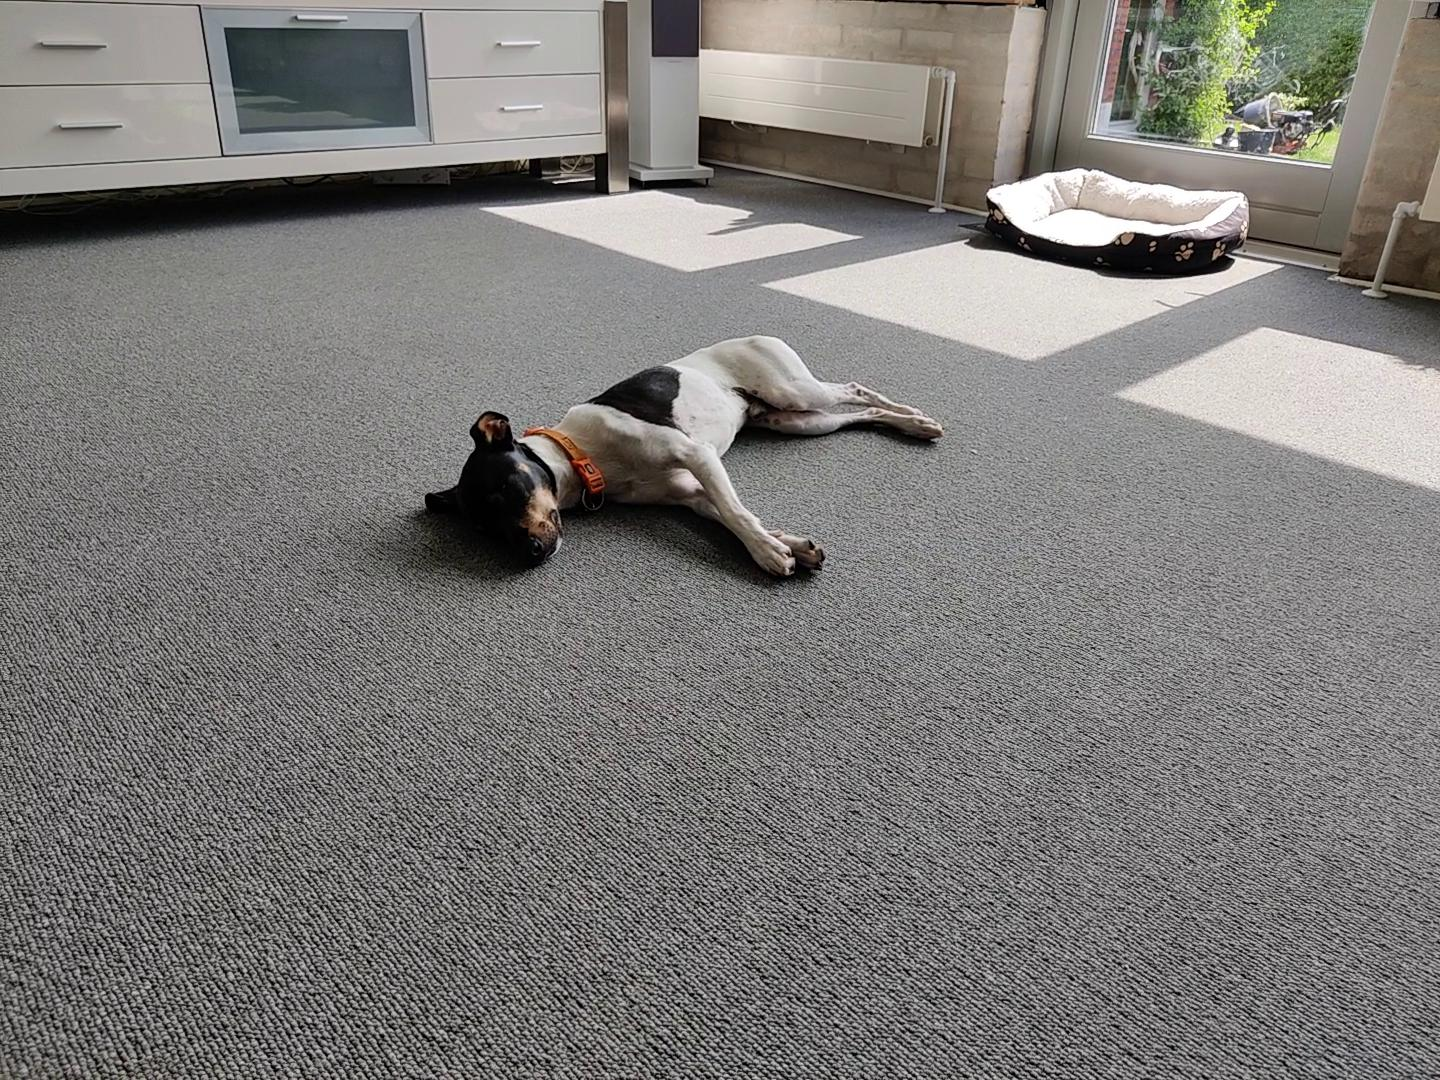Dog: (420, 331, 946, 582)
